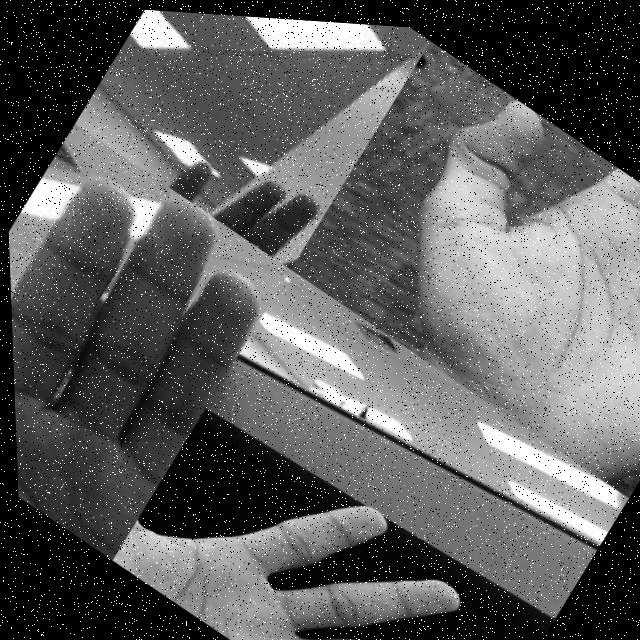hand: (3, 117, 296, 568), (337, 63, 640, 490), (101, 385, 537, 640), (148, 106, 330, 266)
